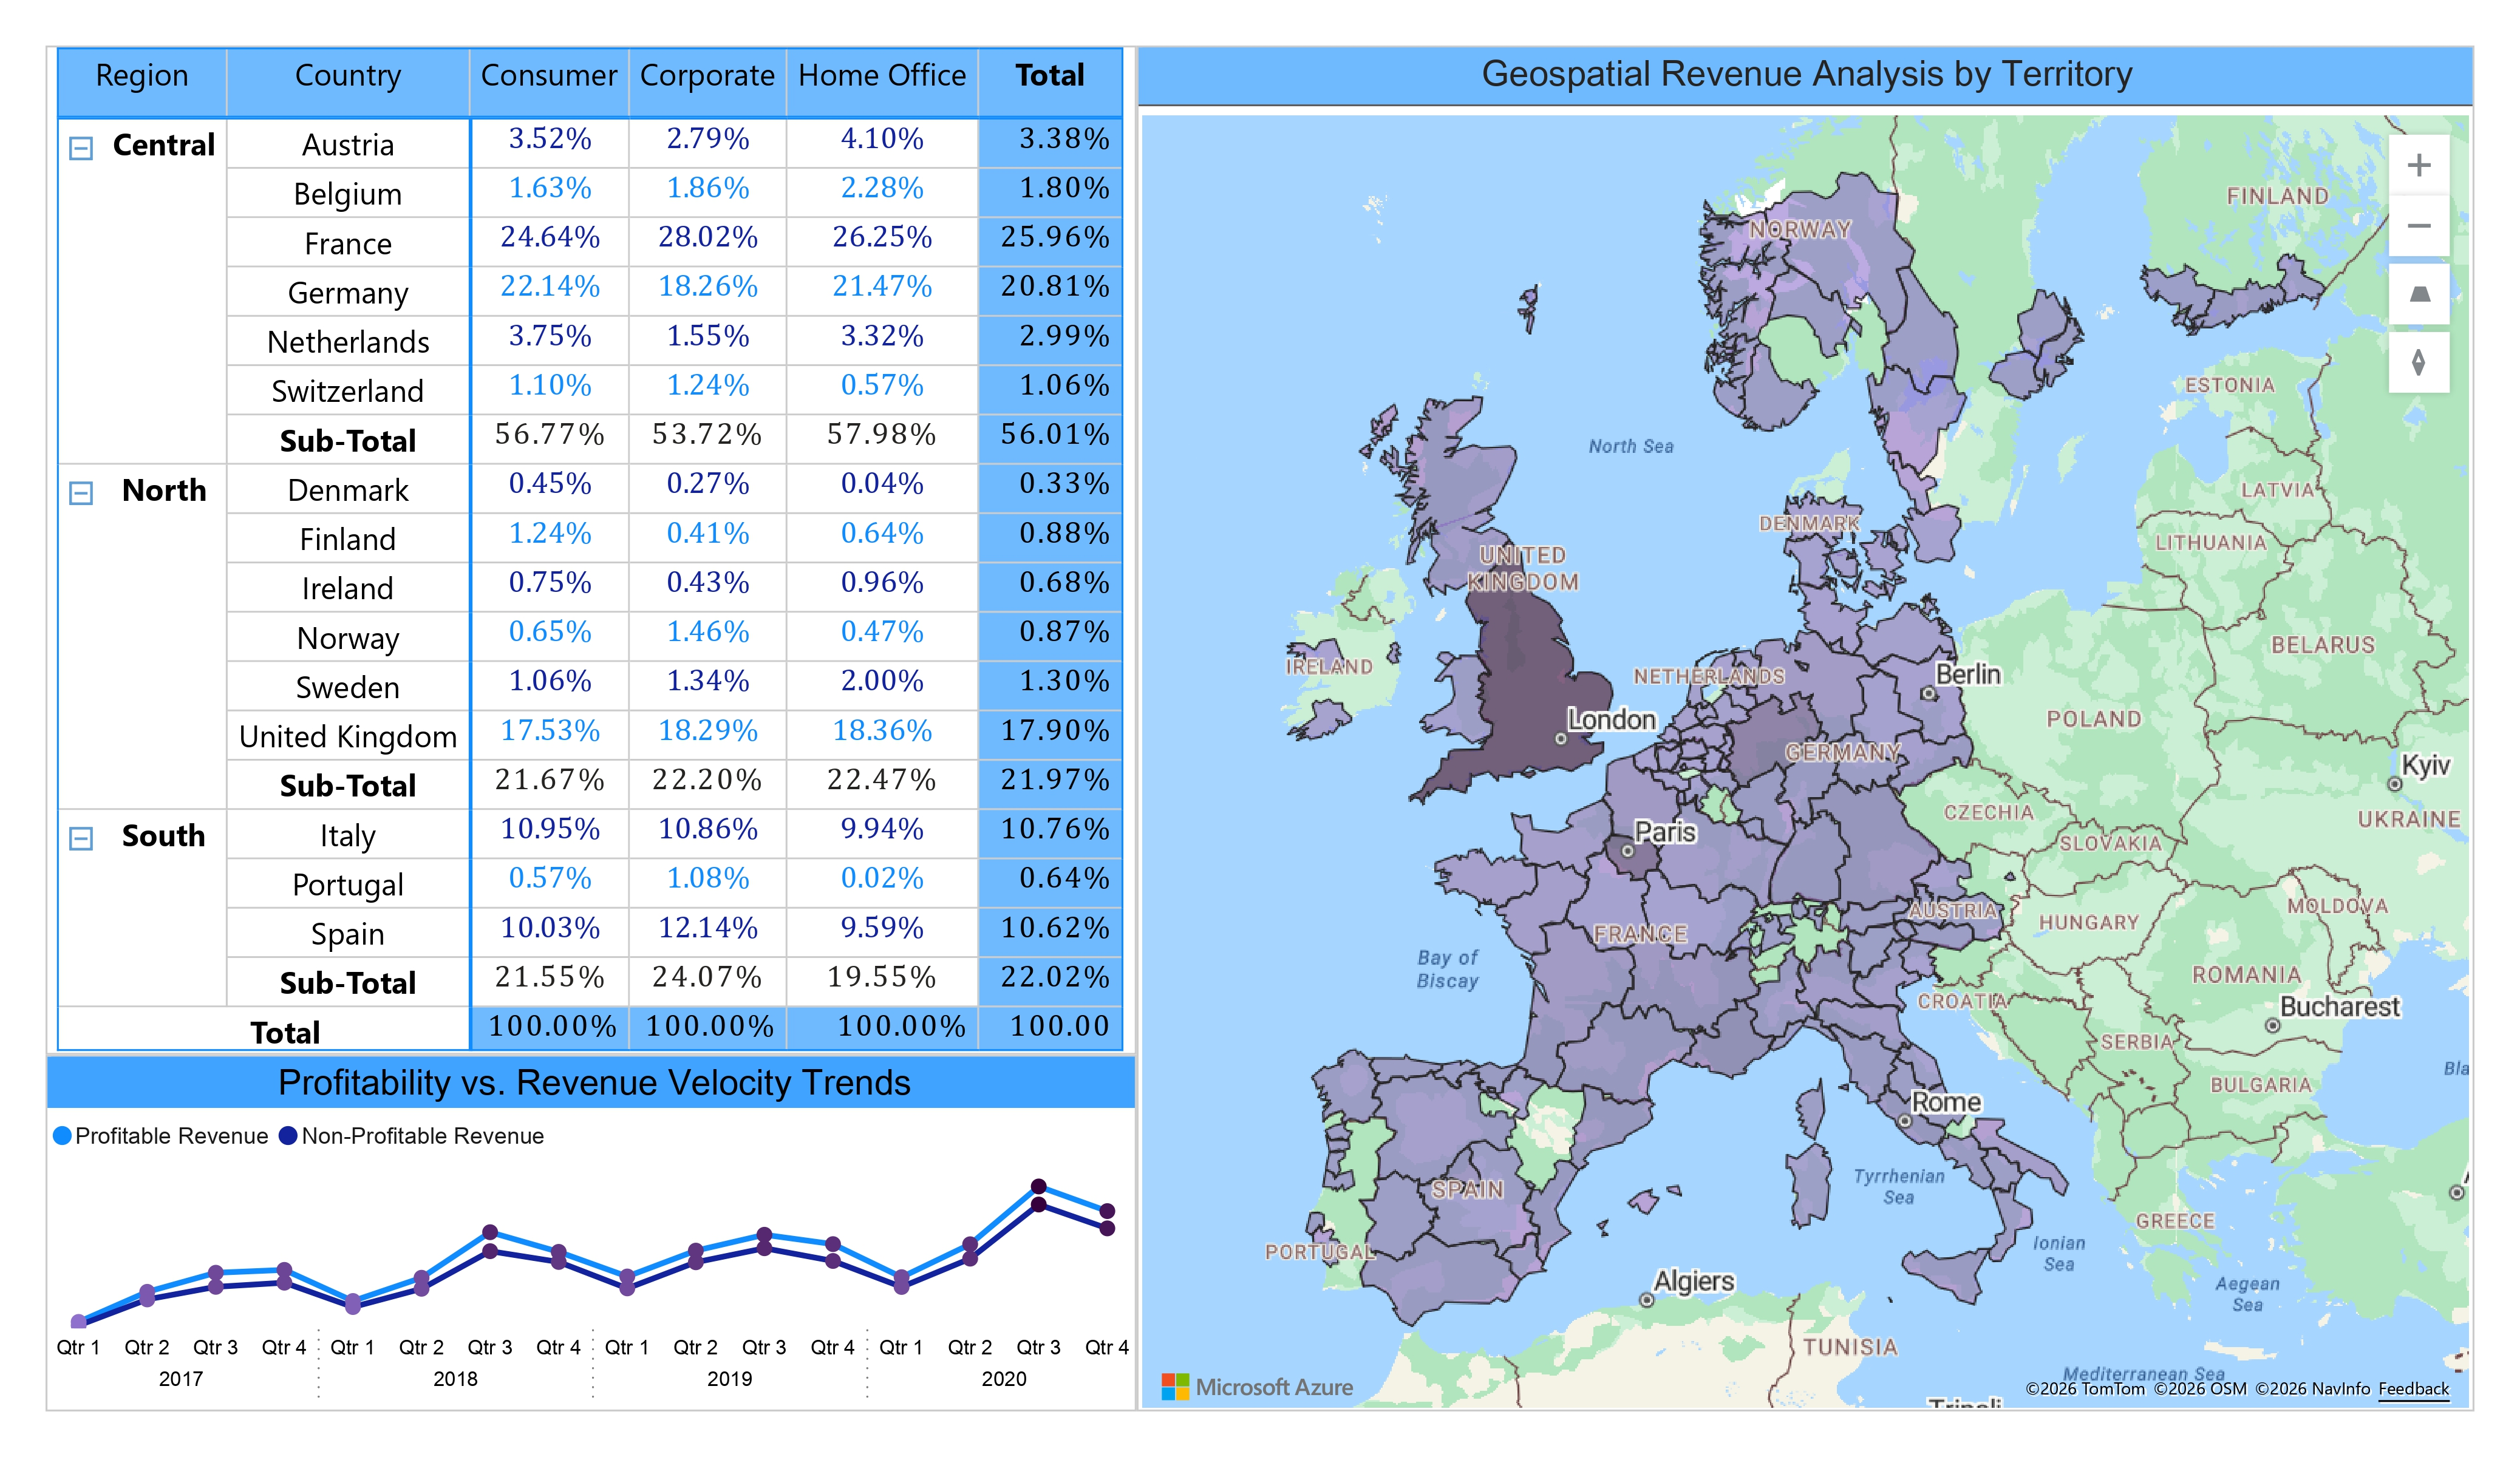

The page's visual inventory and layout, read from the dashboard file:
{"tool":"powerbi","page":{"name":"Matrix & Map view","canvas":[1280,720],"ordinal":2},"visuals":[{"type":"pivotTable","fields":{"Values":["Sum(Order Breakdown.Sales)"],"Rows":["List of Orders.Region","List of Orders.Country"],"Columns":["List of Orders.Segment"]},"box":[0,0,575.5,533.2],"z":0},{"type":"azureMap","fields":{"Category":["List of Orders.Country","List of Orders.State","List of Orders.City"]},"box":[575.4,0,704.6,720.2],"z":1000},{"type":"lineChart","fields":{"Category":["List of Orders.Order Date.Variation.Date Hierarchy.Year","List of Orders.Order Date.Variation.Date Hierarchy.Quarter","List of Orders.Order Date.Variation.Date Hierarchy.Month","List of Orders.Order Date.Variation.Date Hierarchy.Day"],"Y":["Sum(Order Breakdown.Sales)","Order Breakdown.Sum of Sales minus Sum of Profit"]},"box":[0,533,575,187],"z":2000}]}

Visuals, with their boxes on the page's 1280x720 design canvas (x1, y1, x2, y2). These are canvas units, not pixel positions in the 2520x1457 screenshot, which may show the page scaled, cropped or inside an application window:
pivotTable - Sum(Order Breakdown.Sales) x List of Orders.Region: 0 0 576 533
azureMap - List of Orders.Country x List of Orders.State: 575 0 1280 720
lineChart - List of Orders.Order Date.Variation.Date Hierarchy.Year x List of Orders.Order Date.Variation.Date Hierarchy.Quarter: 0 533 575 720
